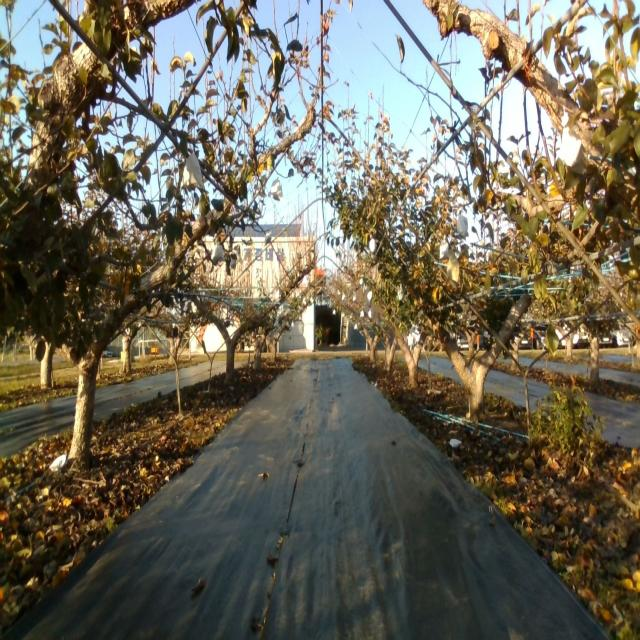pearbags: (179, 147, 206, 188), (560, 127, 583, 169), (268, 177, 284, 206), (440, 233, 450, 260), (457, 215, 468, 238), (212, 243, 225, 261)
